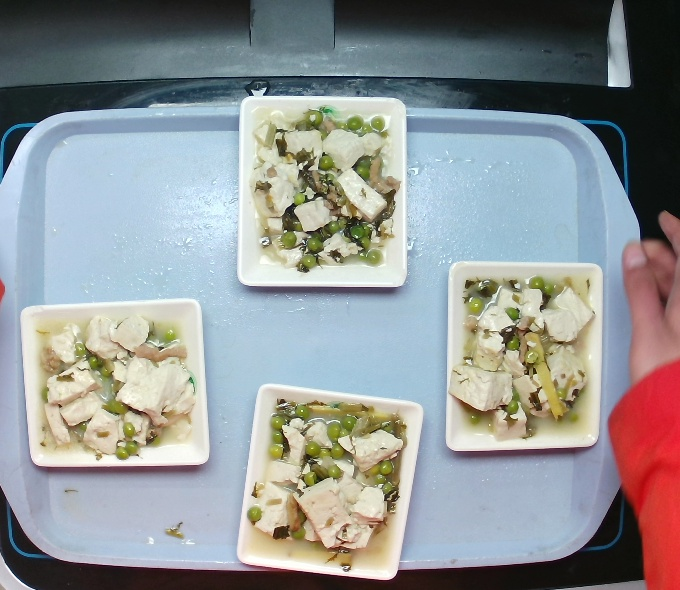wcq-CanDouDouFu: (239, 92, 408, 286), (31, 300, 198, 476), (251, 399, 407, 561), (448, 265, 591, 440)
